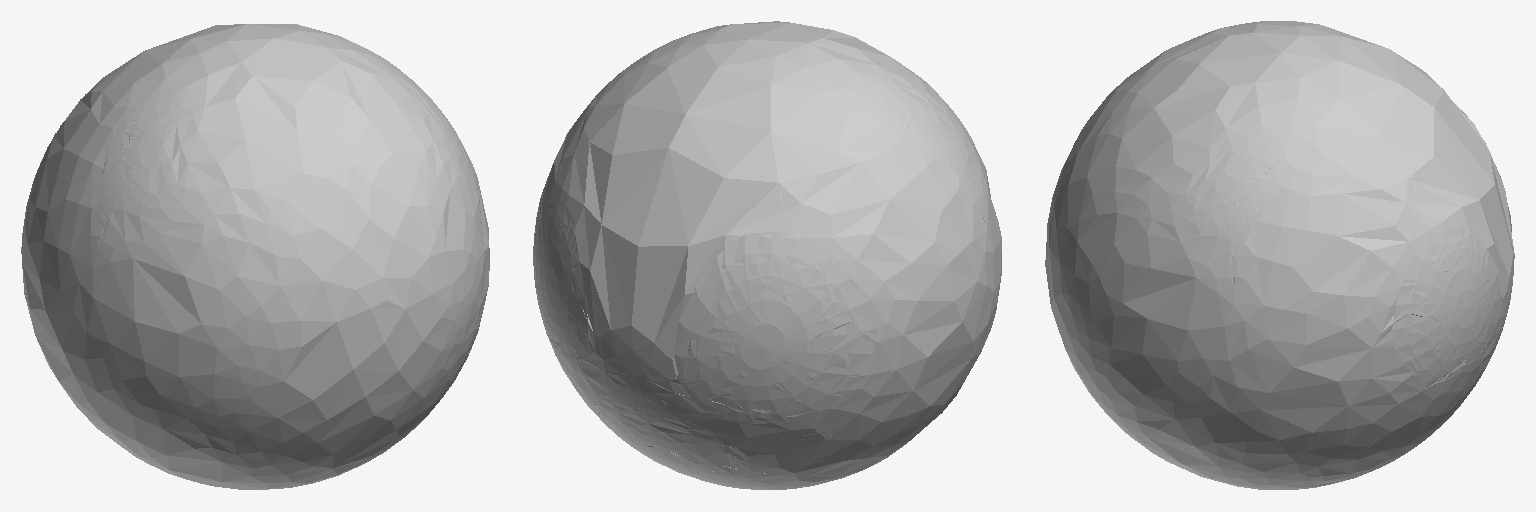
Rendered from bonusE2.obj.
The picture shows the model from 3 angles: view 1: azimuth 30°, elevation 25°; view 2: azimuth 150°, elevation 25°; view 3: azimuth 270°, elevation 25°; orthographic projection.
Bounding box in the file's own units: 1.56 × 1.57 × 1.57.